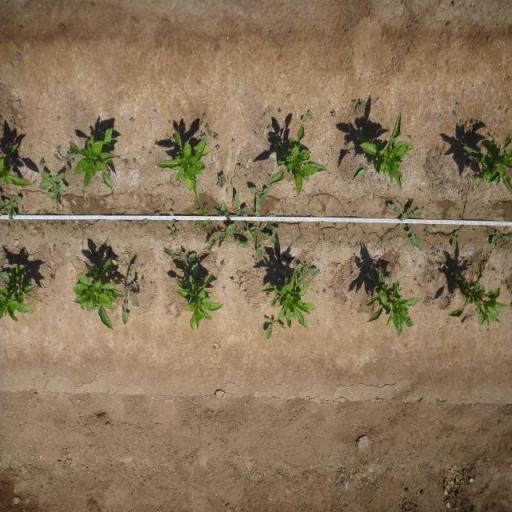plant: (352, 111, 412, 192), (362, 263, 420, 340), (154, 127, 212, 202), (270, 122, 327, 196), (447, 259, 506, 330), (260, 265, 319, 333), (71, 256, 116, 330), (462, 133, 512, 197), (69, 127, 118, 191), (178, 274, 224, 333), (2, 263, 40, 324), (0, 141, 34, 187)
weed: (205, 200, 253, 253), (386, 198, 424, 250), (115, 262, 142, 325), (251, 209, 281, 263), (161, 246, 200, 280), (37, 170, 68, 212), (231, 194, 252, 242), (0, 188, 22, 226), (191, 201, 215, 232), (55, 150, 77, 176), (264, 317, 285, 342), (250, 185, 269, 210), (298, 261, 320, 280), (490, 229, 510, 246), (141, 211, 161, 227), (168, 209, 181, 227), (450, 230, 462, 248), (301, 109, 314, 124), (216, 173, 226, 189), (166, 226, 178, 239), (432, 178, 442, 192), (38, 156, 46, 167), (9, 116, 15, 130), (359, 99, 366, 108), (84, 194, 90, 204), (213, 132, 219, 141), (219, 261, 226, 268), (140, 278, 146, 286), (200, 130, 206, 138), (330, 110, 336, 118), (123, 158, 128, 167), (129, 116, 135, 123), (49, 276, 56, 282), (321, 288, 328, 294), (352, 100, 359, 106), (202, 113, 208, 119), (456, 101, 462, 107), (167, 119, 172, 125), (215, 144, 220, 150), (230, 278, 235, 284), (278, 107, 282, 114), (206, 123, 210, 129), (208, 130, 212, 136), (254, 131, 258, 137), (472, 120, 476, 126), (169, 136, 173, 141), (266, 134, 270, 139), (142, 145, 144, 151)
